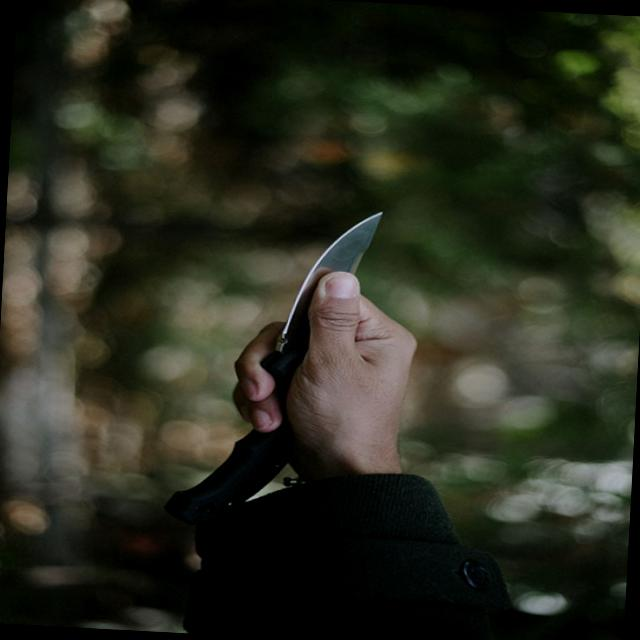knife: (238, 198, 394, 392)
